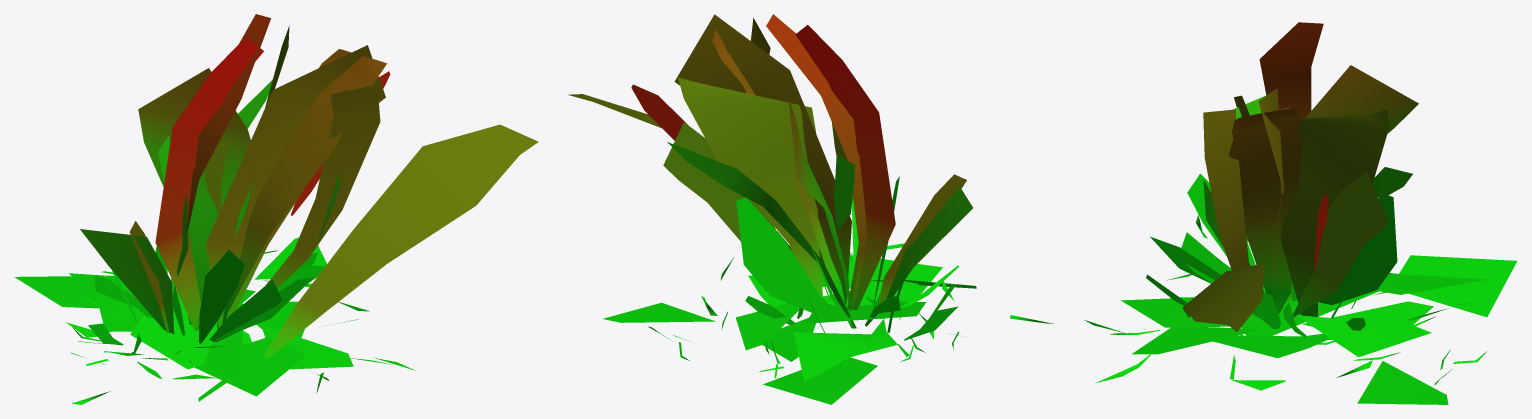
File: Var7_LOD3.fbx
3 views of the same model, side by side, from view 1: azimuth 30°, elevation 25°; view 2: azimuth 150°, elevation 25°; view 3: azimuth 270°, elevation 25° (orthographic). The views are drawn at different scales.
Visible parts, largest first — view 1: _dcw3_Var7_LOD3; view 2: _dcw3_Var7_LOD3; view 3: _dcw3_Var7_LOD3.
Boxes of the visible parts, x1,y1,x2,y2 form: _dcw3_Var7_LOD3: [14, 14, 538, 404]; _dcw3_Var7_LOD3: [568, 14, 1053, 404]; _dcw3_Var7_LOD3: [1085, 22, 1517, 404].
Size of the model in its own units: 93.12 by 55.41 by 64.92.
